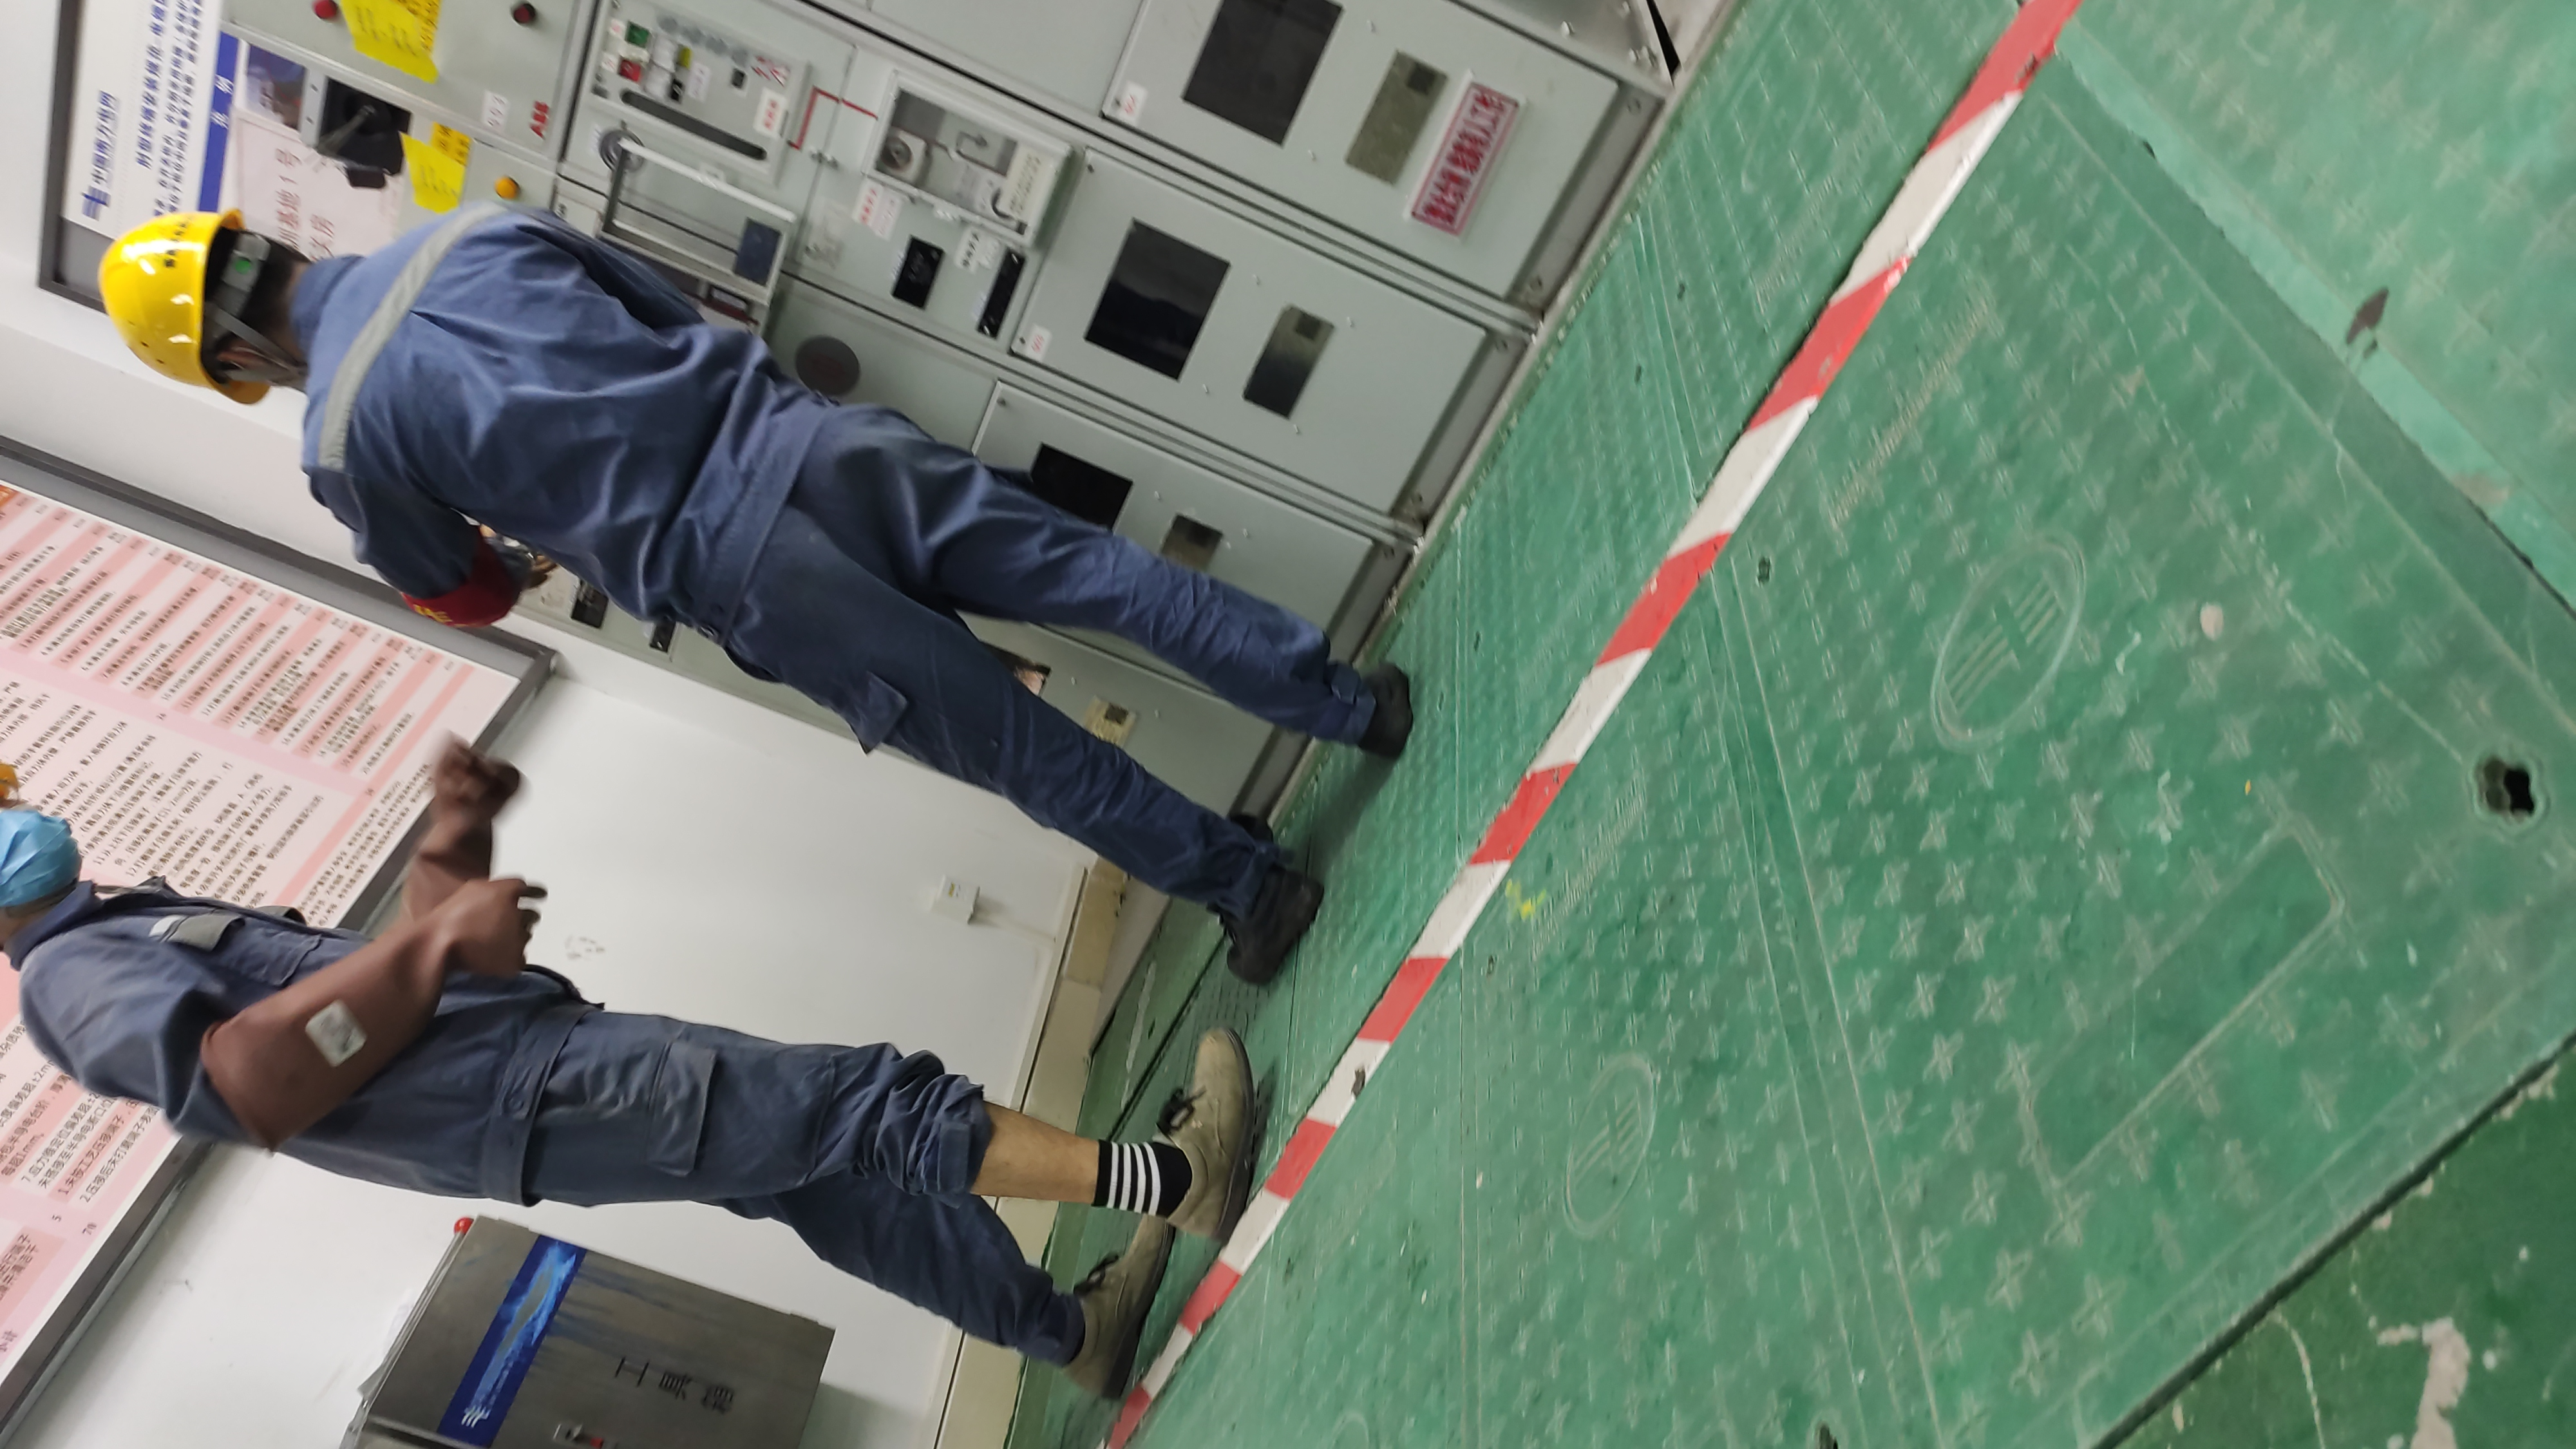badge: (397, 562, 535, 630)
downsuit: (772, 424, 1355, 901), (569, 1007, 1256, 1339)
halt: (103, 211, 293, 408)
longglove: (197, 873, 547, 1151)
person: (83, 175, 1375, 943), (1, 780, 1243, 1390)
upsuit: (299, 216, 792, 603), (28, 891, 421, 1154)
wrongbottom: (844, 1068, 1119, 1229)
